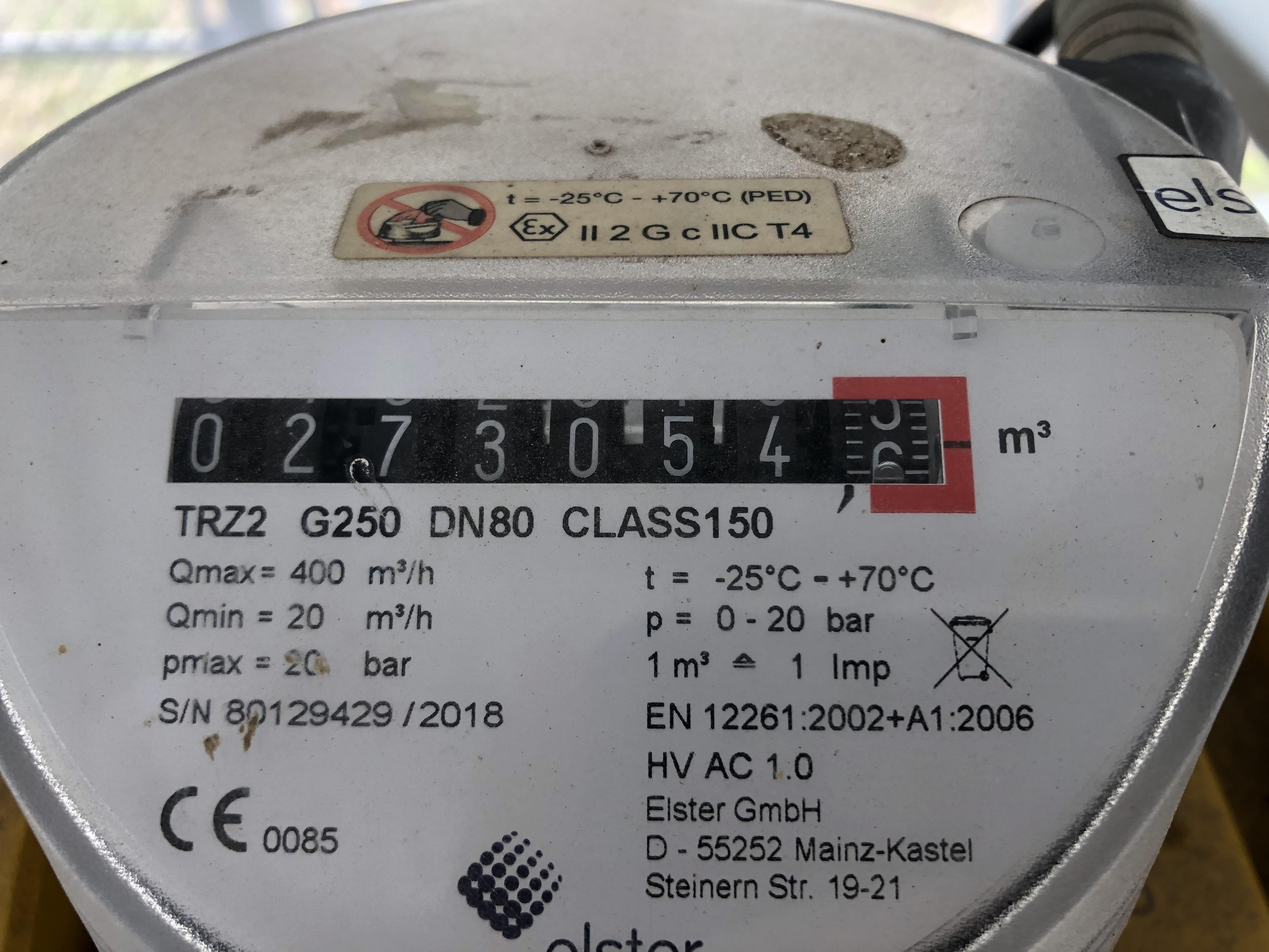analog_dial: (160, 340, 988, 519)
